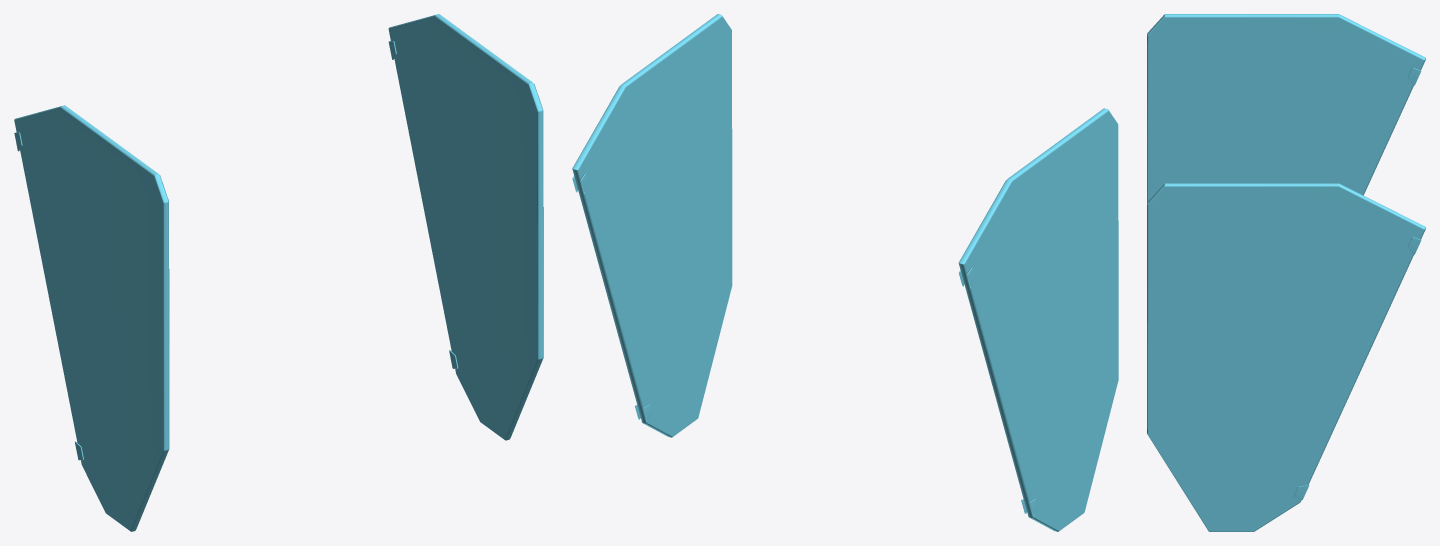
The model's file is TableRangeGlassGeo.fbx.
3 views of the same model, side by side, from view 1: azimuth 30°, elevation 25°; view 2: azimuth 150°, elevation 25°; view 3: azimuth 270°, elevation 25° (orthographic). The views are drawn at different scales.
Visible parts, largest first — view 1: TableRangeGlassGeo; view 2: TableRangeGlassGeo; view 3: TableRangeGlassGeo.
Part boxes in pixels (<box>): TableRangeGlassGeo: <box>14,14,543,531</box>; TableRangeGlassGeo: <box>572,14,1118,531</box>; TableRangeGlassGeo: <box>1147,14,1425,531</box>.
Bounding box in the file's own units: 125 × 117 × 84.92.
